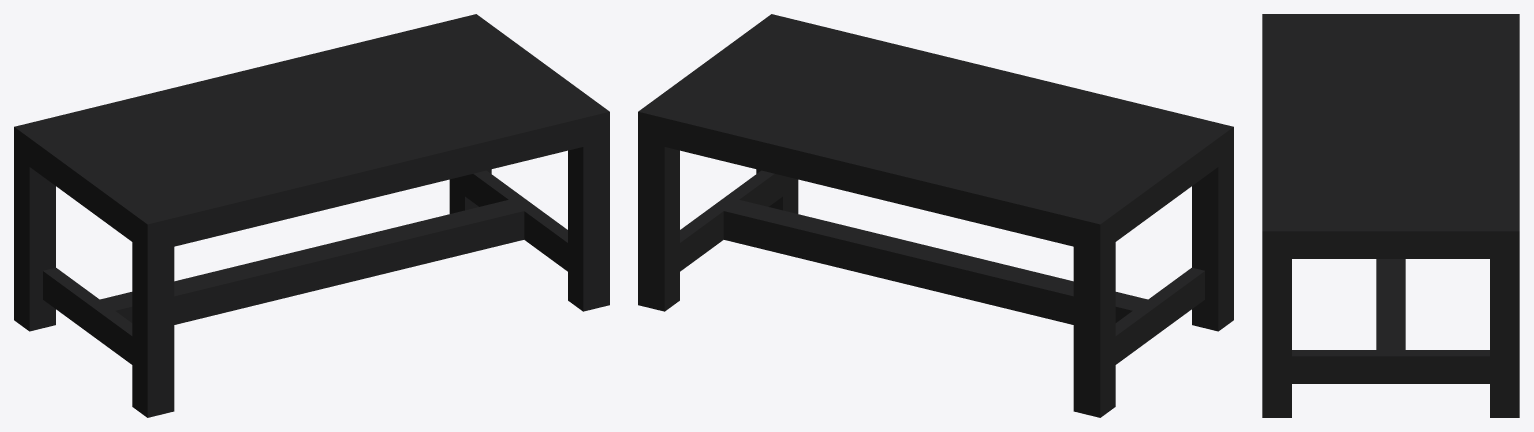
The model's file is pk_trect_black.glb.
The picture shows the model from 3 angles, left to right: view 1: azimuth 30°, elevation 25°; view 2: azimuth 150°, elevation 25°; view 3: azimuth 270°, elevation 25°; orthographic projection. The views are drawn at different scales.
Parts seen in each view (by area): view 1: pk_trect_black; view 2: pk_trect_black; view 3: pk_trect_black.
Part boxes in pixels (<box>): pk_trect_black: <box>14,14,609,417</box>; pk_trect_black: <box>638,14,1233,417</box>; pk_trect_black: <box>1262,14,1519,417</box>.
Size of the model in its own units: 1.9 by 0.76 by 0.95.
Materials: 1 (1 with a texture image).
